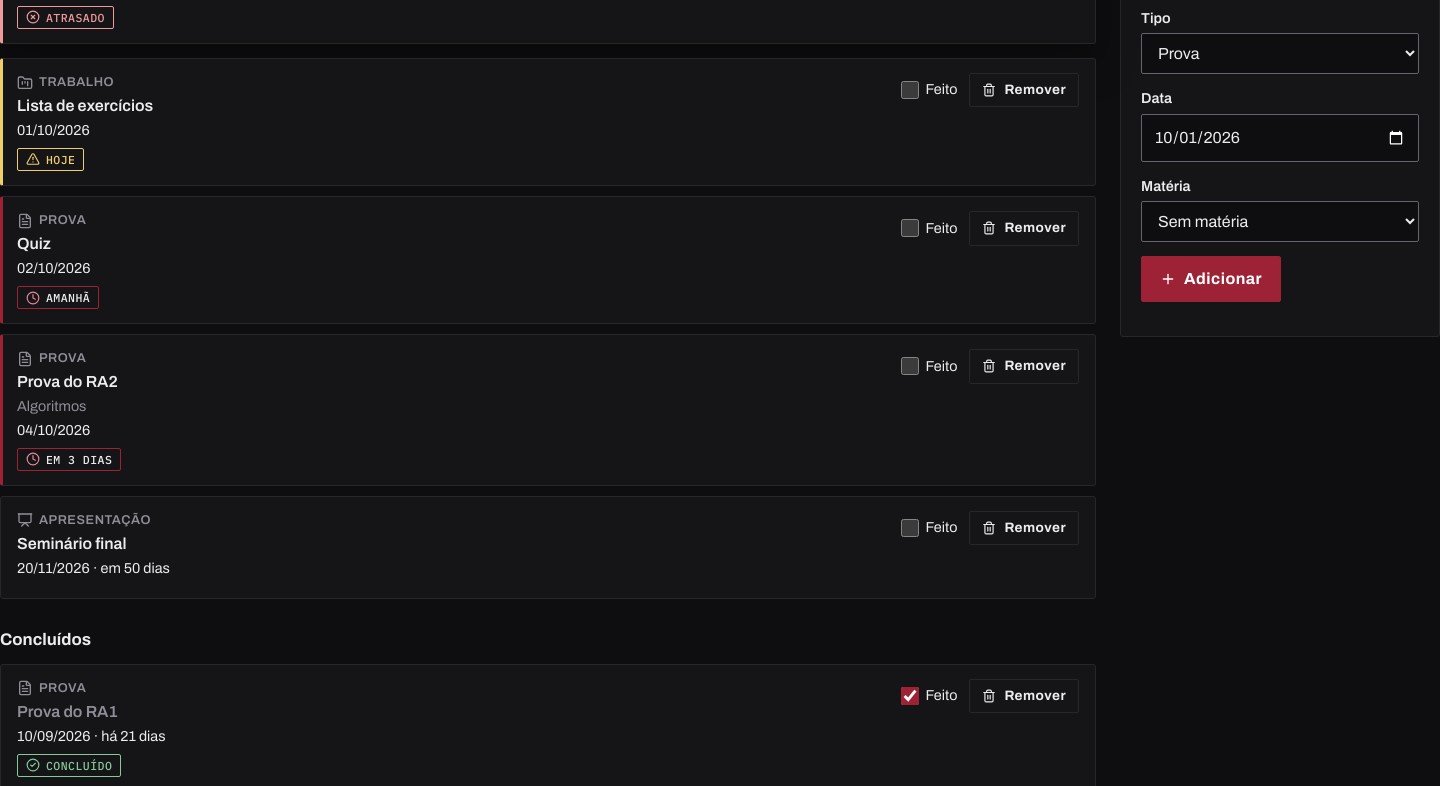
Test case: TelaAgenda › desmarcar devolve o item para "A fazer"
This screenshot has width=1440, height=786.
(page scrolled)
Click the checkbox named "Marcar Prova do RA1 como feito": (910, 696) [901,687,919,705]
(page scrolled)
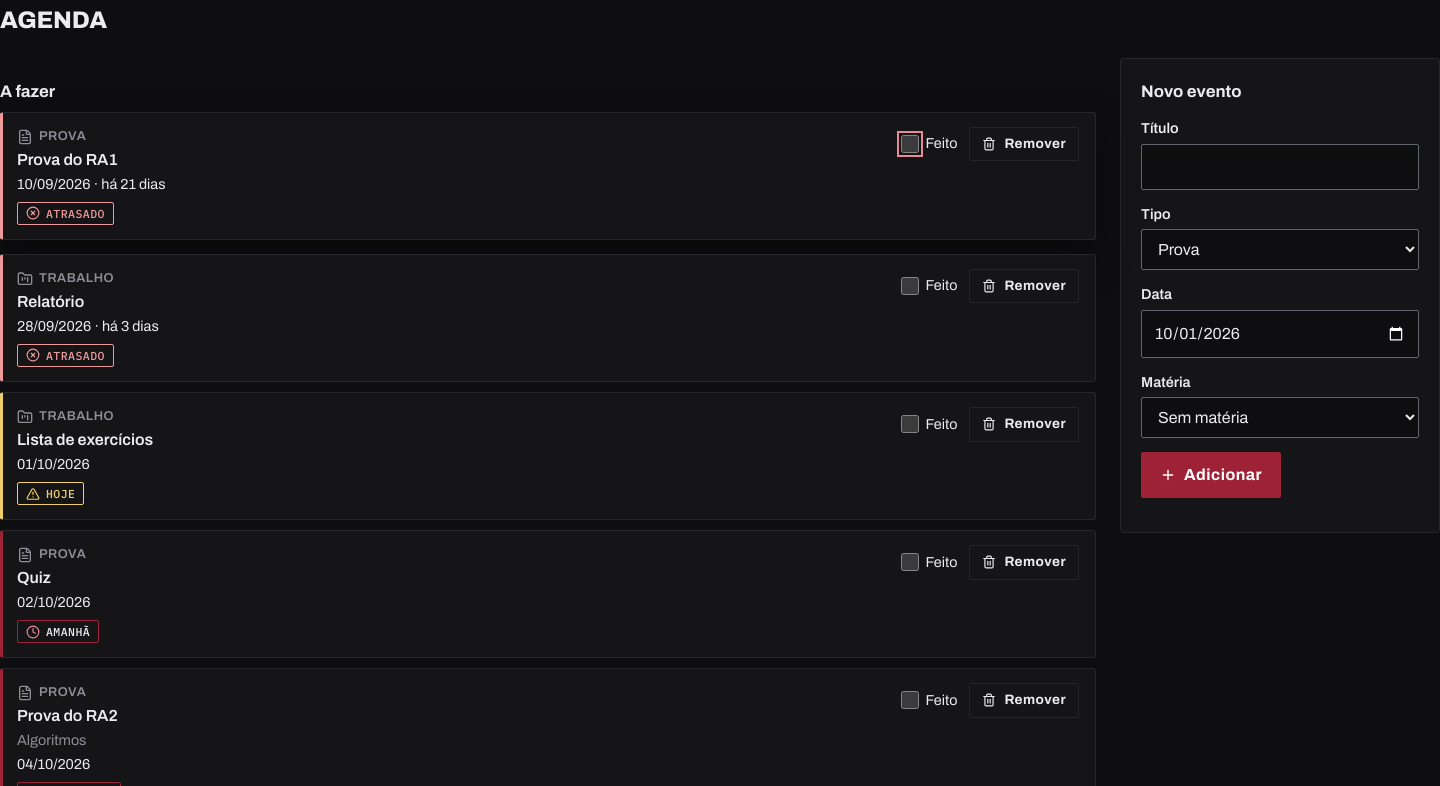
Expected: the text with class "item-agenda__titulo" reads "Prova do RA1", [17,151,118,168]
Now the heading "Concluídos" is gone
